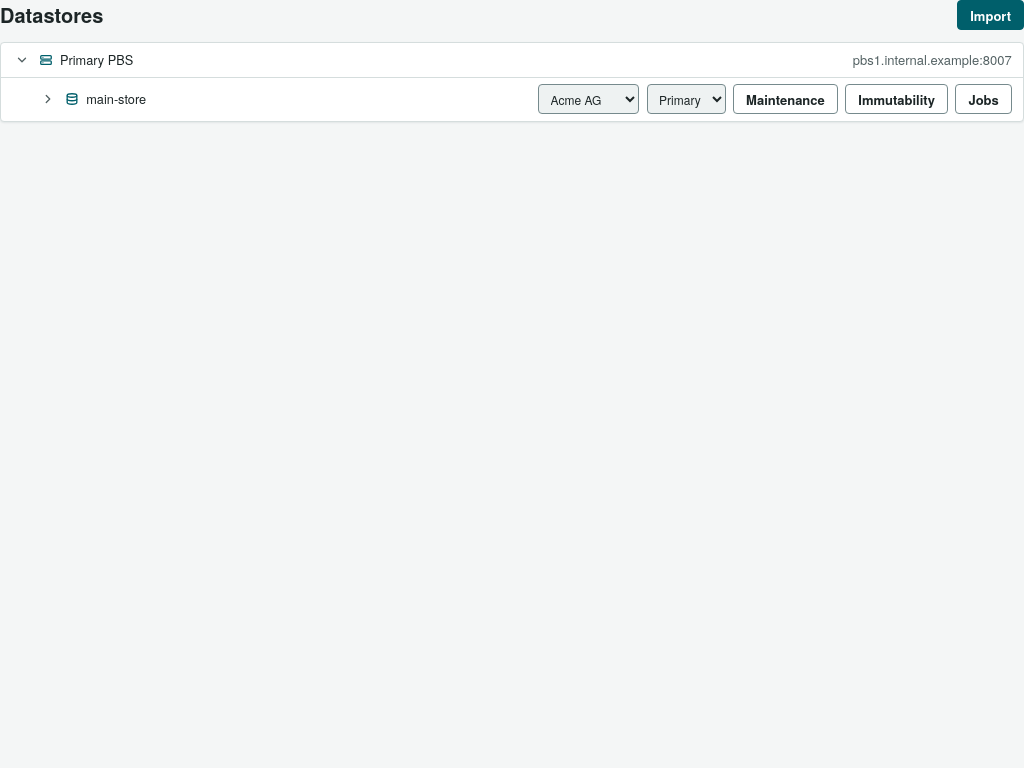
Scenario: DatastoresPage — maintenance mode › asks for confirmation when a VM runs from a backup on the datastore (Instant Recovery)
This screenshot has width=1024, height=768.
Later steps or results of the test are not shown.
Expected: the text "Primary PBS" is shown, [60, 50, 133, 70]
Click the button named "Expand" at (48, 99), box [38, 90, 57, 109]
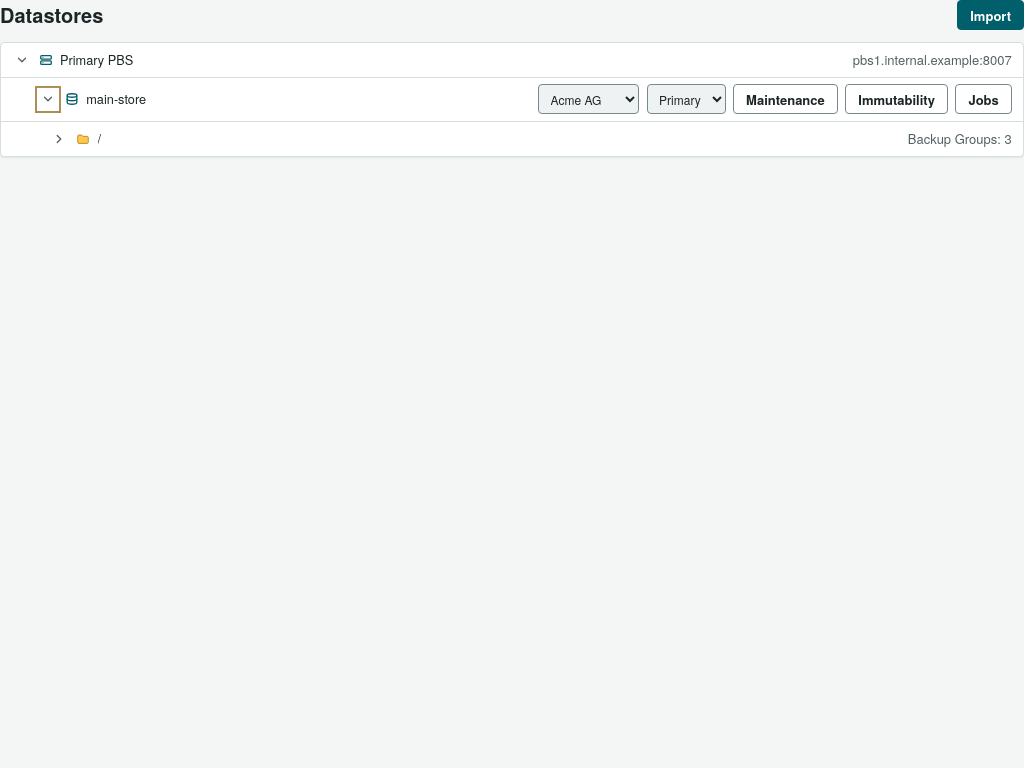
Expected: the text "main-store" is shown, [86, 89, 146, 109]
Click the button "Maintenance" at (785, 99), box [733, 84, 838, 114]
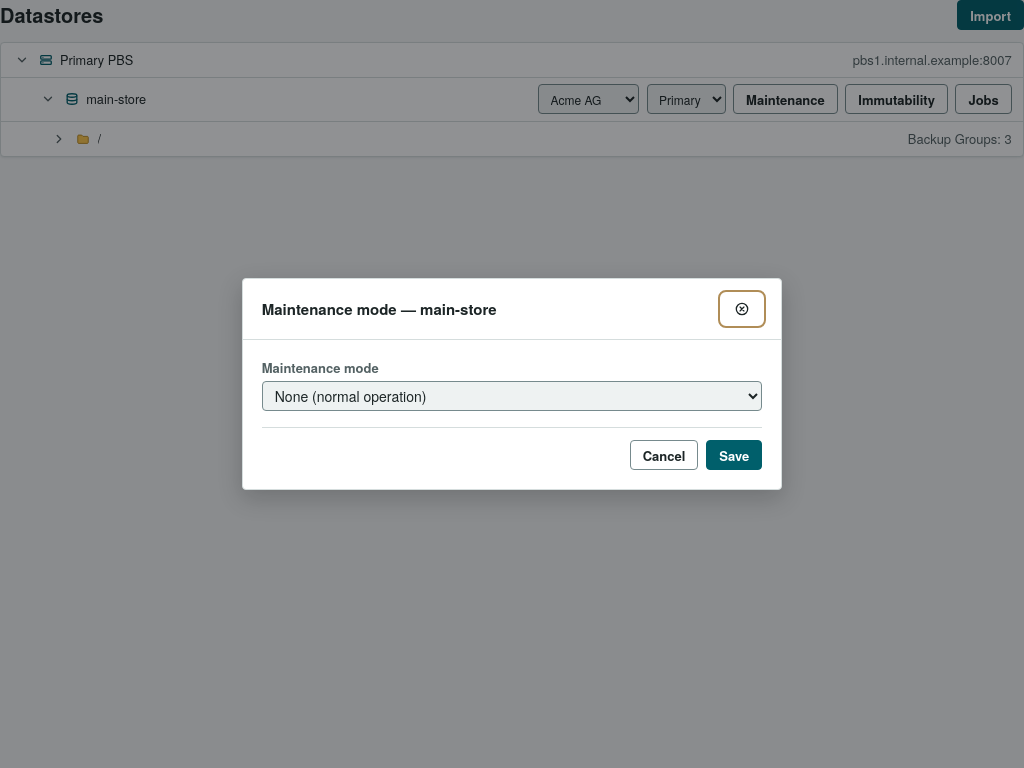
Select "Offline" in the dropdown labelled "Maintenance mode" at (512, 396), box [262, 381, 762, 411]
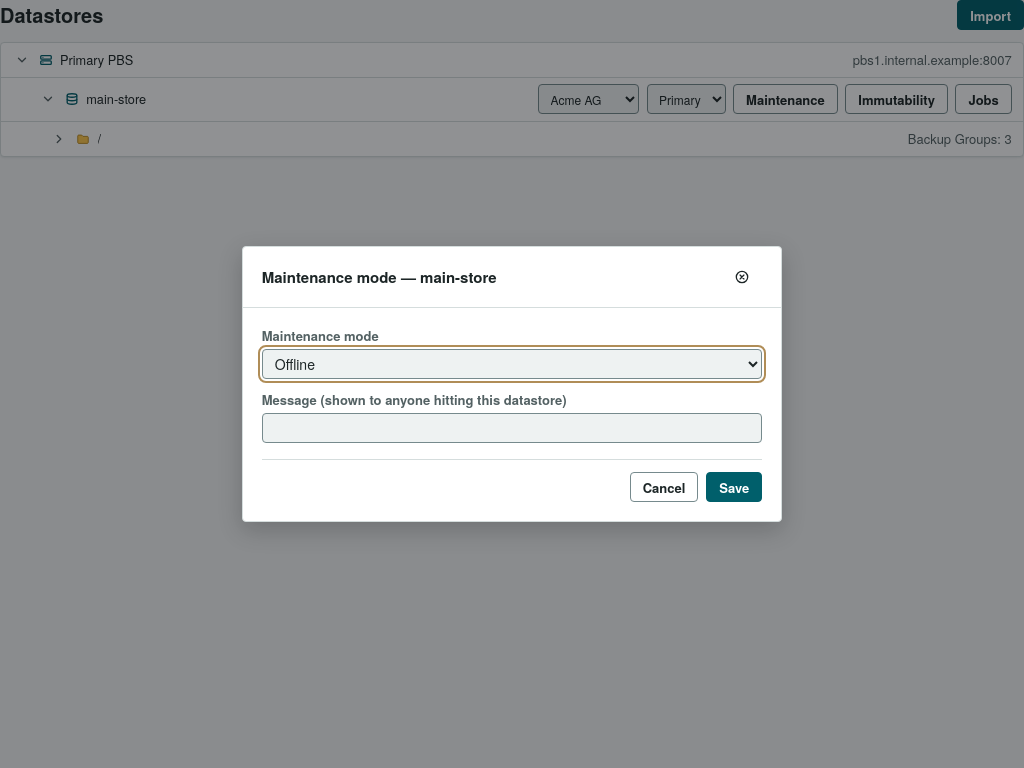
Click the button "Save" at (734, 487), box [706, 472, 762, 502]
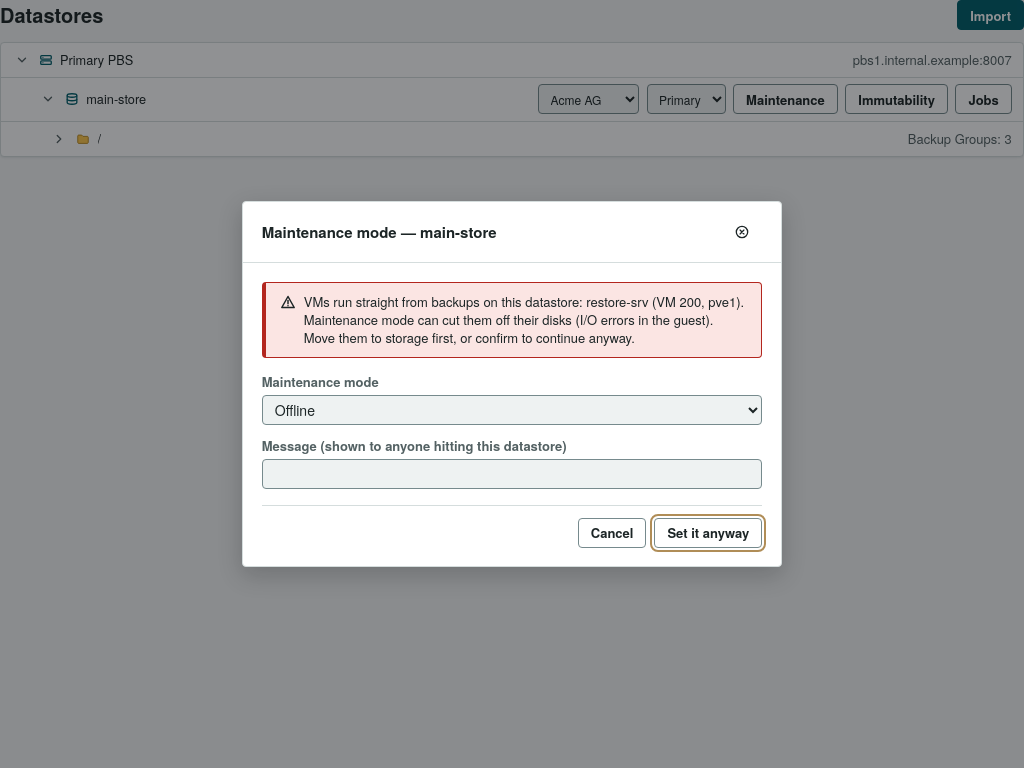
Now the text "restore-srv (VM 200, pve1)" is shown, box [304, 292, 744, 346]
